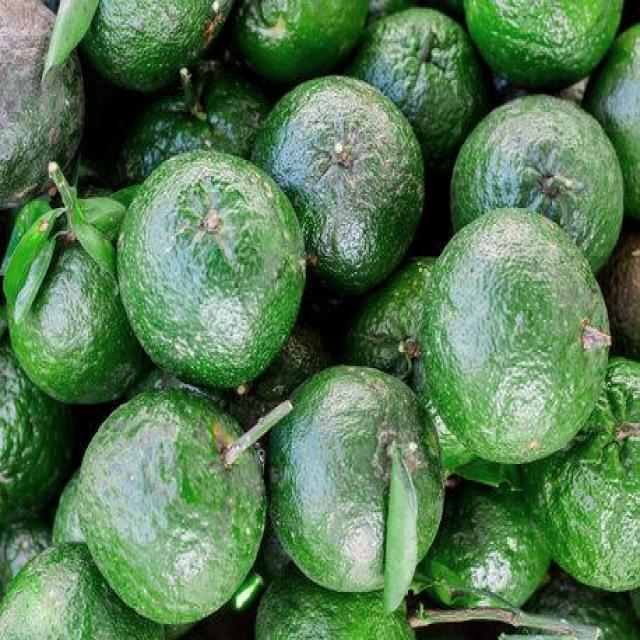Jeruk Belum Matang: (420, 210, 614, 468), (118, 150, 308, 388), (80, 389, 266, 626), (268, 364, 444, 594), (257, 75, 425, 292), (450, 96, 625, 270), (524, 358, 640, 590), (10, 229, 154, 402), (350, 10, 490, 162), (416, 476, 556, 612), (0, 537, 166, 640), (0, 339, 84, 526), (75, 0, 235, 98), (462, 0, 628, 91), (342, 260, 450, 382), (584, 21, 640, 224), (239, 0, 372, 80), (254, 576, 418, 640)
